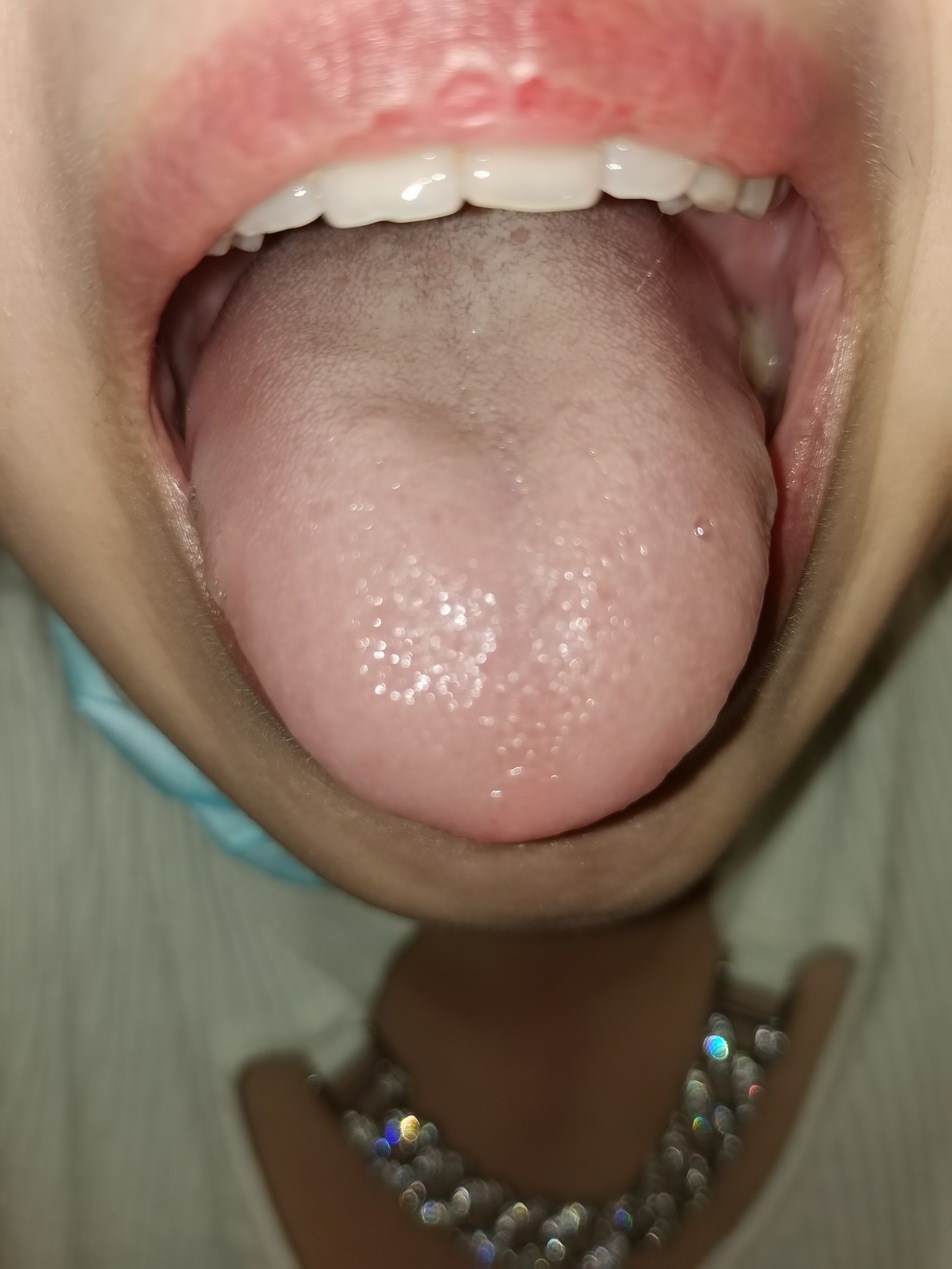baitaishe: (183, 202, 773, 845)
